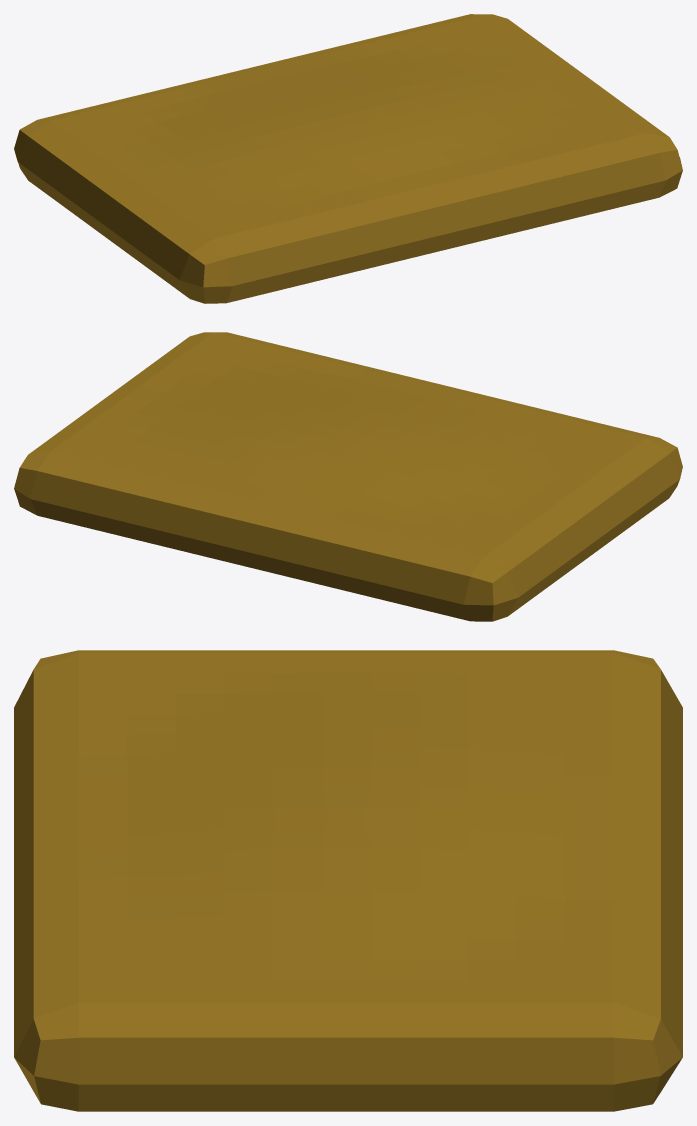
Rendered from ATL-THR-std.glb.
3 views of the same model, one above another, from view 1: azimuth 30°, elevation 25°; view 2: azimuth 150°, elevation 25°; view 3: azimuth 270°, elevation 25° (orthographic). The views are drawn at different scales.
Parts seen in each view (by area): view 1: throw:pbr; view 2: throw:pbr; view 3: throw:pbr.
Part boxes in pixels (<box>): throw:pbr: <box>14,14,682,303</box>; throw:pbr: <box>14,332,682,621</box>; throw:pbr: <box>14,650,682,1111</box>.
Bounding box in the file's own units: 0.4983 × 0.0729 × 0.3486.
